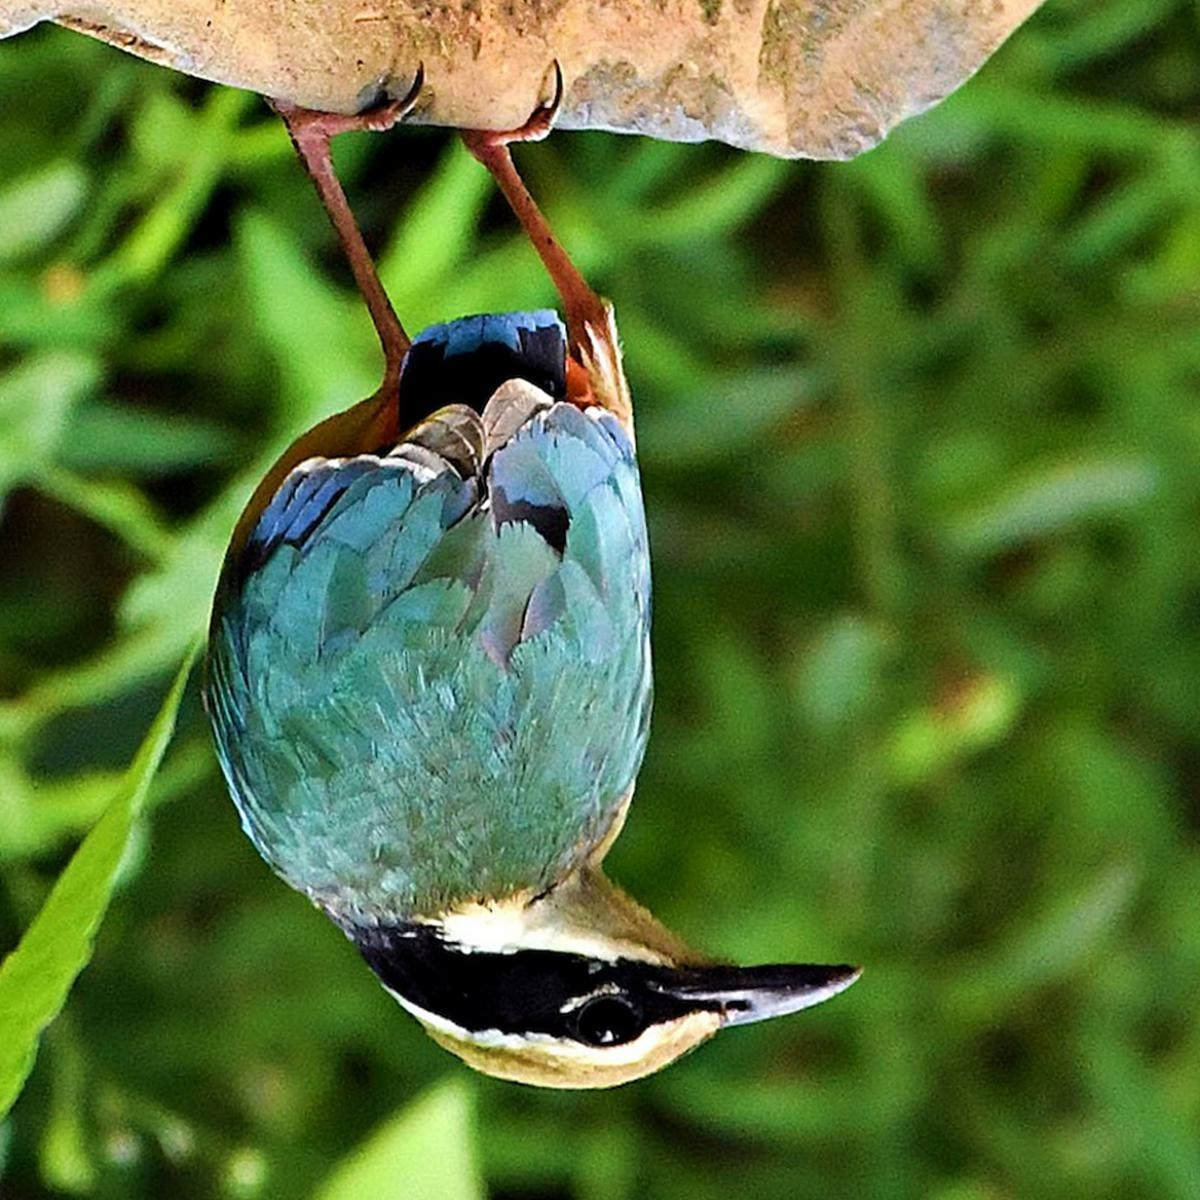pitta: (116, 95, 827, 1149)
